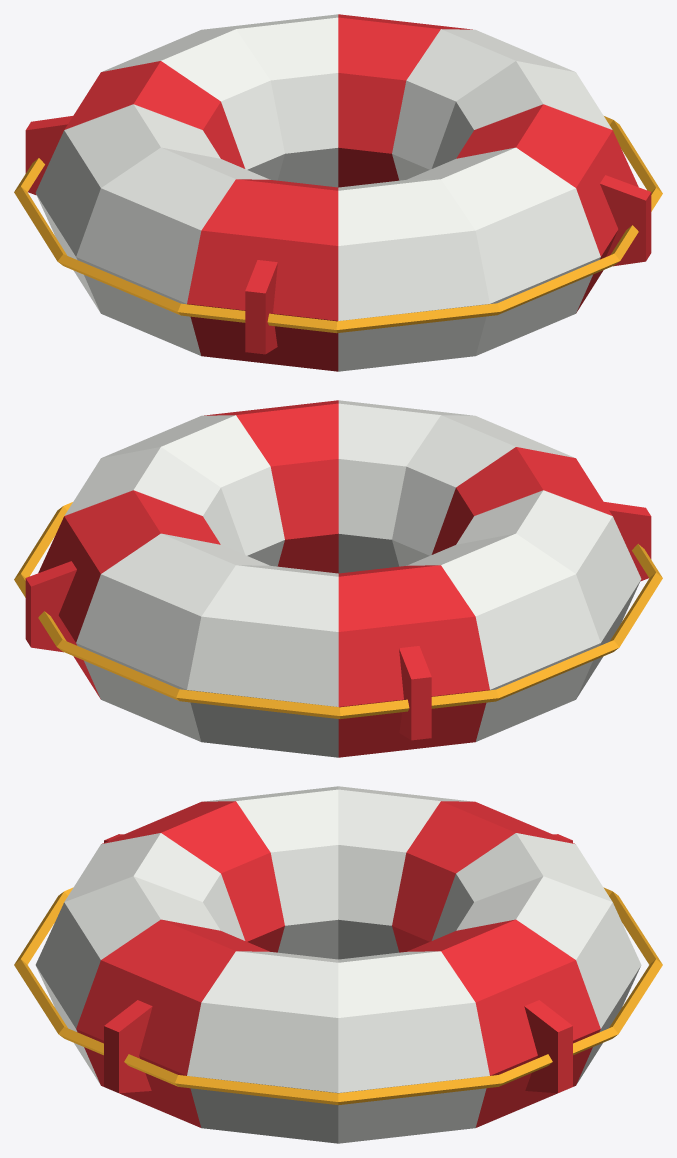
Rendered from tubeB.FBX.
3 renders of one model, top to bottom at view 1: azimuth 30°, elevation 25°; view 2: azimuth 150°, elevation 25°; view 3: azimuth 270°, elevation 25°, orthographic.
Visible parts, largest first — view 1: tubeB; view 2: tubeB; view 3: tubeB.
Part boxes in pixels (x1,y1,x2,y2): tubeB: (14,14,662,371); tubeB: (14,400,662,757); tubeB: (14,786,662,1143).
Size of the model in its own units: 0.3873 by 0.117 by 0.3873.
